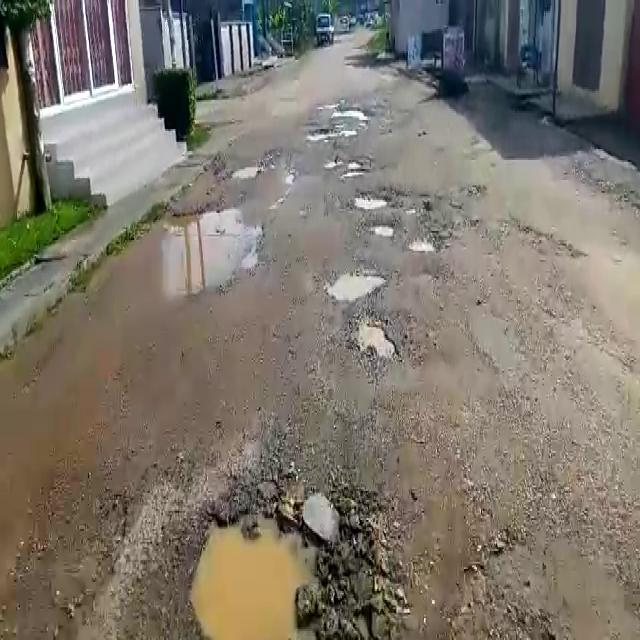Pothole: (185, 501, 358, 640), (116, 214, 261, 300), (347, 309, 404, 366), (325, 267, 388, 303), (304, 122, 359, 142), (348, 193, 391, 212), (331, 158, 375, 176), (410, 236, 440, 254), (369, 223, 401, 239), (234, 163, 261, 180)
